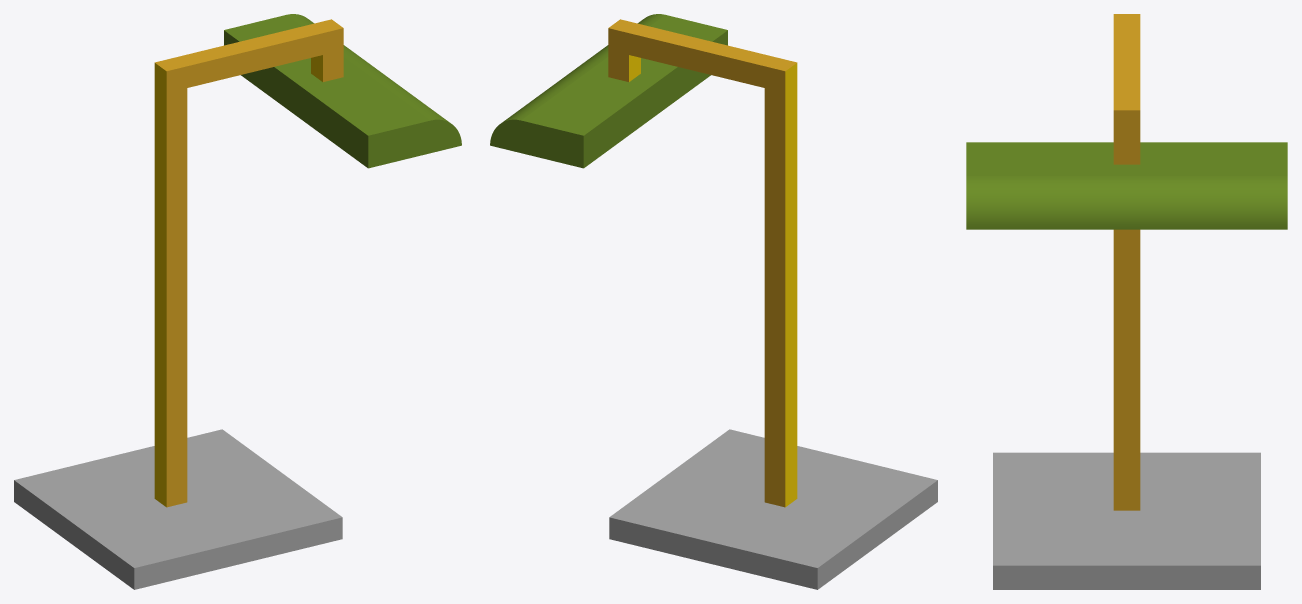
The model's file is lamp.obj.
3 renders of one model, left to right at view 1: azimuth 30°, elevation 25°; view 2: azimuth 150°, elevation 25°; view 3: azimuth 270°, elevation 25°, orthographic. The views are drawn at different scales.
Visible parts, largest first — view 1: Mesh1 Model; view 2: Mesh1 Model; view 3: Mesh1 Model.
Part boxes in pixels (left/top/right/bottom): Mesh1 Model: left=14, top=14, right=461, bottom=589; Mesh1 Model: left=490, top=14, right=937, bottom=589; Mesh1 Model: left=966, top=14, right=1287, bottom=589.
Size of the model in its own units: 303 by 420 by 240.
